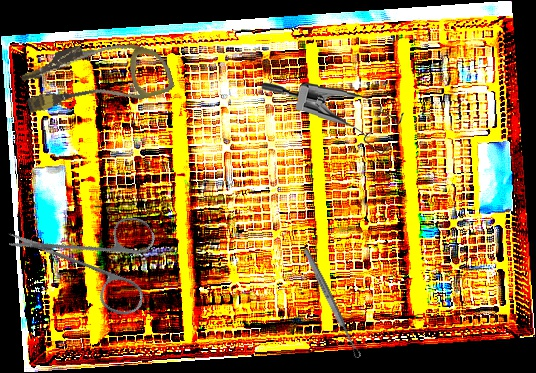Cannula: (16, 23, 176, 130)
Iris Scissors: (4, 168, 184, 350)
Speculum: (258, 80, 406, 156)
Surgical Spoon: (301, 247, 363, 360)
